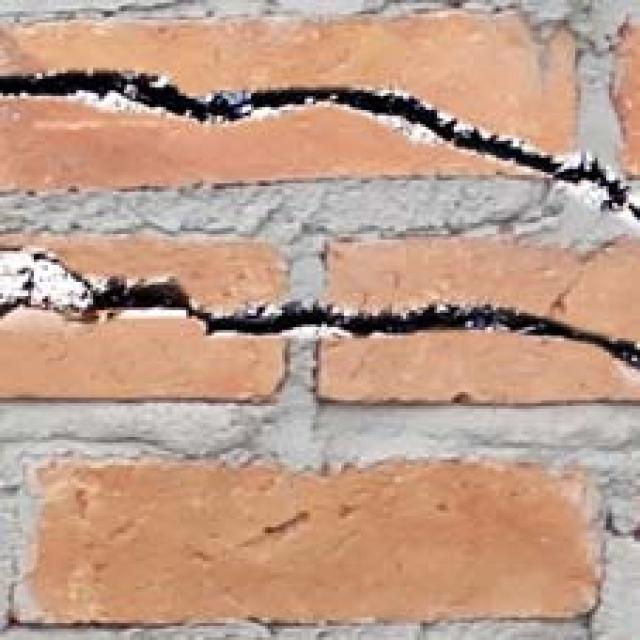Crack: (0, 37, 640, 232), (0, 238, 640, 415)
